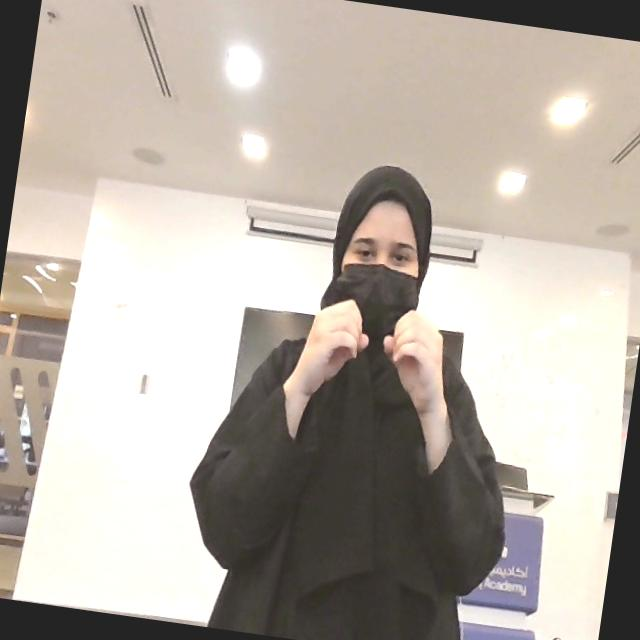analysis: (290, 291, 460, 409)
